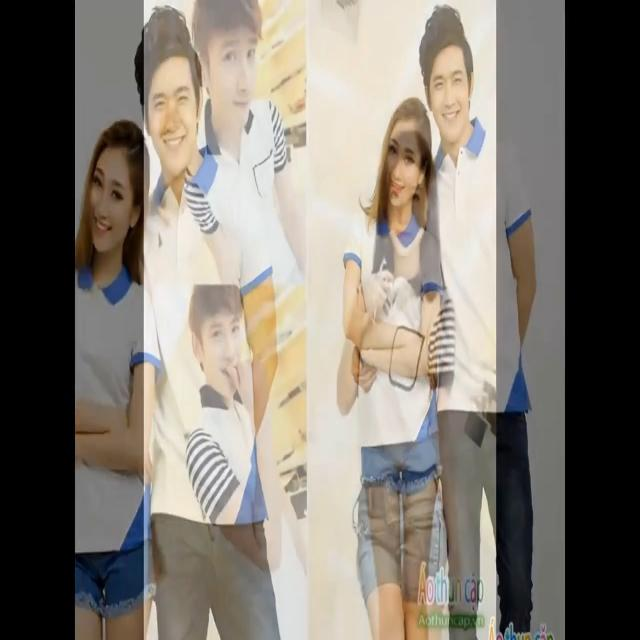Shirt: (136, 146, 274, 527), (426, 116, 534, 416), (75, 260, 163, 554), (343, 208, 443, 449)
